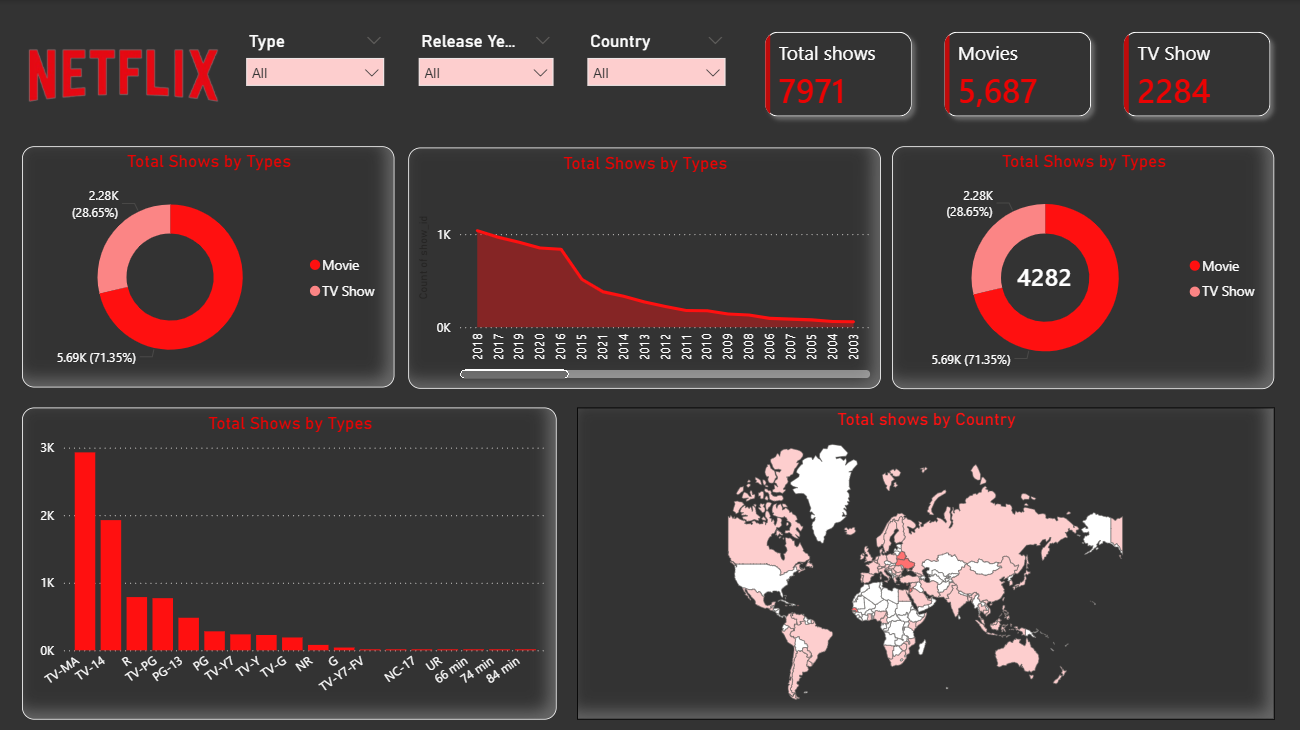

What the dashboard file says about the page in this screenshot:
{"tool":"powerbi","page":{"name":"Page 1","canvas":[1280,720],"ordinal":0},"visuals":[{"type":"cardVisual","fields":{"Data":["Measures (2).Total shows","Measures (2).Movies","Measures (2).TV Show"]},"box":[725.2,2.5,554.6,141.1],"z":0},{"type":"donutChart","title":"Total Shows by Types","fields":{"Category":["netflix_titles.type"],"Y":["CountNonNull(netflix_titles.show_id)"]},"box":[24.5,143.6,365.6,236.8],"z":1000},{"type":"donutChart","title":"Total Shows by Types","fields":{"Category":["netflix_titles.type"],"Y":["CountNonNull(netflix_titles.director)"]},"box":[878.5,143.6,375.5,238],"z":3000},{"type":"cardVisual","fields":{"Data":["Measures (2).Total Director"]},"box":[925.2,204.9,206.1,131.3],"z":4000},{"type":"columnChart","title":"Total Shows by Types","fields":{"Y":["CountNonNull(netflix_titles.show_id)"],"Category":["netflix_titles.rating"]},"box":[24.5,400,525.2,306.8],"z":5000},{"type":"image","box":[24.5,6.1,198.8,135],"z":6000},{"type":"shapeMap","title":"Total shows by Country","fields":{"Series":["netflix_titles.type"],"Category":["netflix_titles.Country_new"],"Value":["CountNonNull(netflix_titles.show_id)"]},"box":[569.3,400,684.7,306.8],"z":7000},{"type":"slicer","fields":{"Values":["netflix_titles.type"]},"box":[234.4,25.8,155.8,109.2],"z":8000},{"type":"slicer","fields":{"Values":["netflix_titles.Country_new"]},"box":[569.3,25.8,155.8,109.2],"z":9000},{"type":"slicer","fields":{"Values":["netflix_titles.release_year"]},"box":[403.7,25.8,152.1,109.2],"z":10000},{"type":"areaChart","title":"Total Shows by Types","fields":{"Category":["netflix_titles.release_year"],"Y":["CountNonNull(netflix_titles.show_id)"]},"box":[403.7,144.8,463.8,236.8],"z":10001}]}

Visuals, with their boxes in screenshot pixels (x1, y1, x2, y2), scaled from the page's 1280x720 canvas onto the 1300x730 screenshot:
cardVisual - Measures (2).Total shows x Measures (2).Movies: left=737, top=3, right=1299, bottom=146
"Total Shows by Types" donutChart: left=25, top=146, right=396, bottom=386
"Total Shows by Types" donutChart: left=892, top=146, right=1274, bottom=387
cardVisual - Measures (2).Total Director: left=940, top=208, right=1149, bottom=341
"Total Shows by Types" columnChart: left=25, top=406, right=558, bottom=717
image: left=25, top=6, right=227, bottom=143
"Total shows by Country" shapeMap: left=578, top=406, right=1274, bottom=717
slicer - netflix_titles.type: left=238, top=26, right=396, bottom=137
slicer - netflix_titles.Country_new: left=578, top=26, right=736, bottom=137
slicer - netflix_titles.release_year: left=410, top=26, right=564, bottom=137
"Total Shows by Types" areaChart: left=410, top=147, right=881, bottom=387
